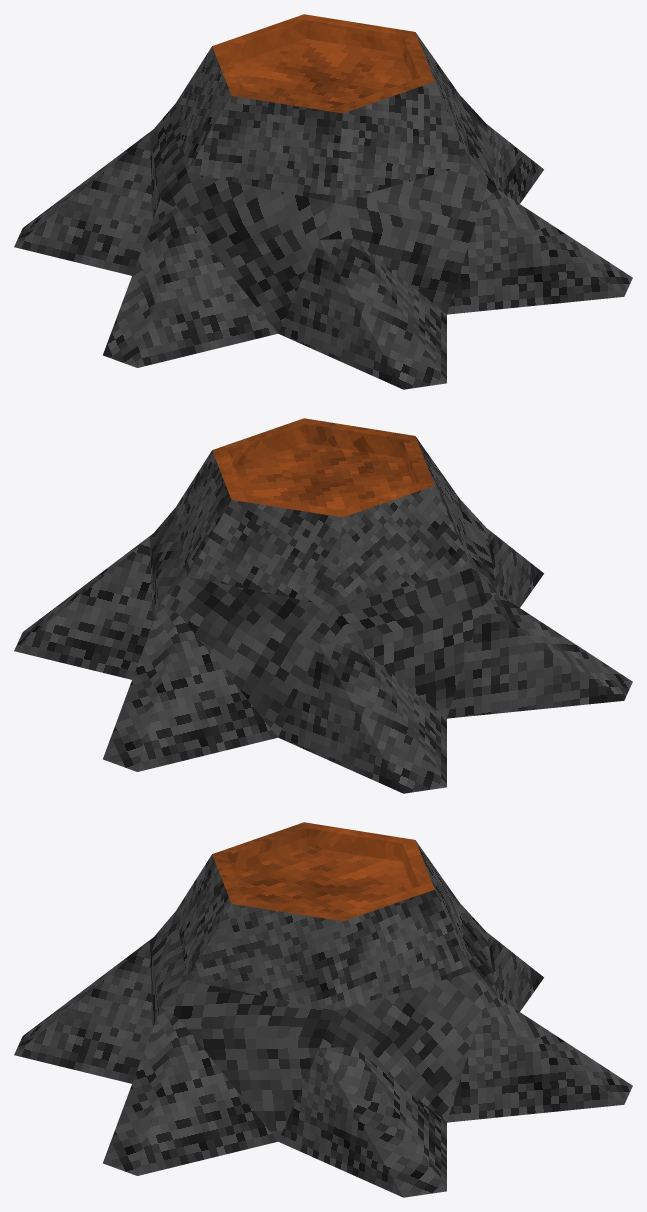
File: stump_02.glb
3 renders of one model, top to bottom at view 1: azimuth 30°, elevation 25°; view 2: azimuth 150°, elevation 25°; view 3: azimuth 270°, elevation 25°, orthographic.
Visible parts, largest first — view 1: STUMP_02-convex; view 2: STUMP_02-convex; view 3: STUMP_02-convex.
Part boxes in pixels (left/top/right/bottom): STUMP_02-convex: left=14, top=14, right=632, bottom=389; STUMP_02-convex: left=14, top=418, right=632, bottom=793; STUMP_02-convex: left=14, top=822, right=632, bottom=1197.
Bounding box in the file's own units: 3.02 × 1.1 × 3.1.
Materials: 1 (1 with a texture image).
